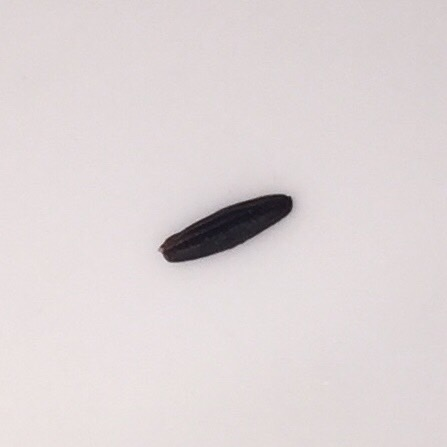Gao Nep Cam: (153, 184, 300, 276)
